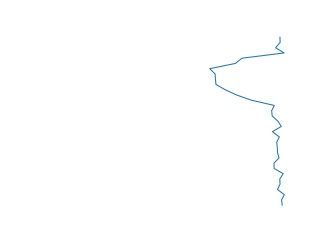distalBar: (203, 35, 291, 208)
